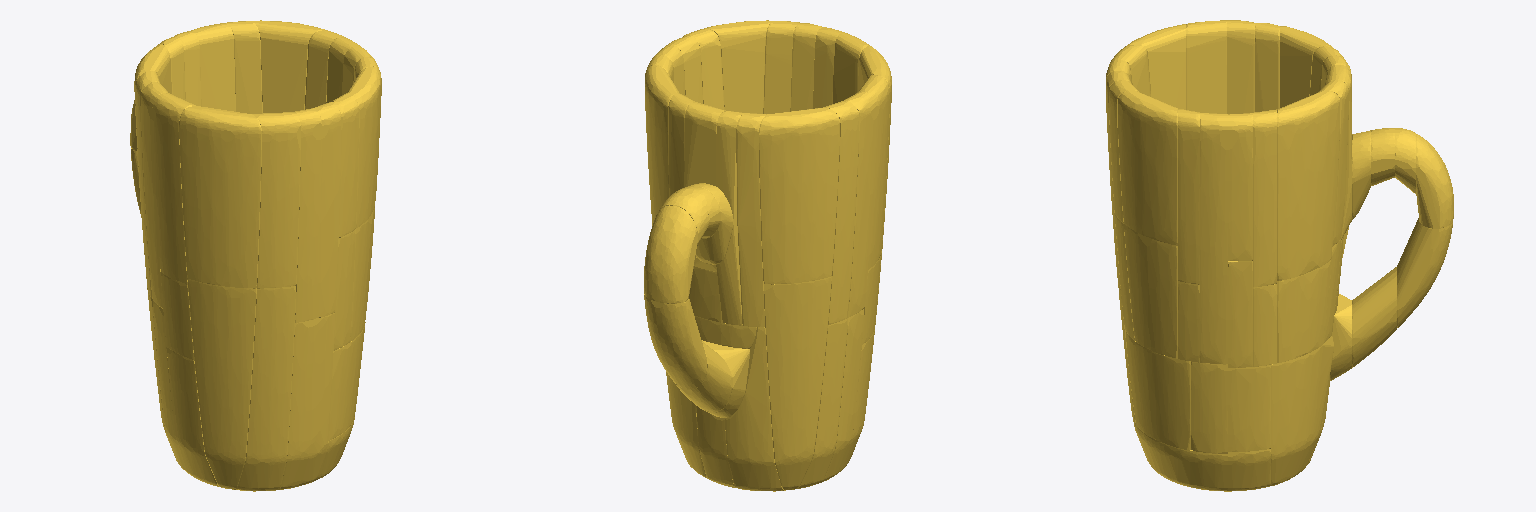
URDF robot description (269.urdf):
<?xml version="1.0" ?>
<robot name="269.urdf">
	<link name="baseLink">
		<inertial>
			<origin rpy="0 0 0" xyz="0 0 0"/>
				<mass value="0.1"/>
				<inertia ixx="6e-5" ixy="0" ixz="0" iyy="6e-5" iyz="0" izz="6e-5"/>
		</inertial>
		<visual>
			<origin rpy="0 0 0" xyz="0 0 0"/>
			<geometry>
				<mesh filename="8_decom_wt.obj" scale="1.01 1.01 1.19"/>
			</geometry>
			<material name="yellow">
				<color rgba="0.98 0.84 0.35 1"/>
			</material>
		</visual>
		<collision>
			<origin rpy="0 0 0" xyz="0 0 0"/>
			<geometry>
				<mesh filename="8_decom_wt.obj" scale="1.01 1.01 1.19"/>
			</geometry>
		</collision>
	</link>
</robot>

--- Facts derived from the render (not from the file) ---
Views: 3 orthographic renders of the robot side by side, from view 1: azimuth 30°, elevation 25°; view 2: azimuth 150°, elevation 25°; view 3: azimuth 270°, elevation 25°.
Robot: 269.urdf — 1 links, 0 joints (none); root link baseLink; default pose: every joint at zero.
Visible links, largest first — view 1: baseLink; view 2: baseLink; view 3: baseLink.
Link boxes in pixels (box(x1,y1,x2,y2)): baseLink: box(130, 20, 381, 491); baseLink: box(644, 20, 891, 491); baseLink: box(1106, 20, 1453, 491).
Size in the robot's own frame: 0.086 by 0.1217 by 0.1507 metres.
1 mesh visuals loaded from 1 distinct referenced files (1 OBJ).